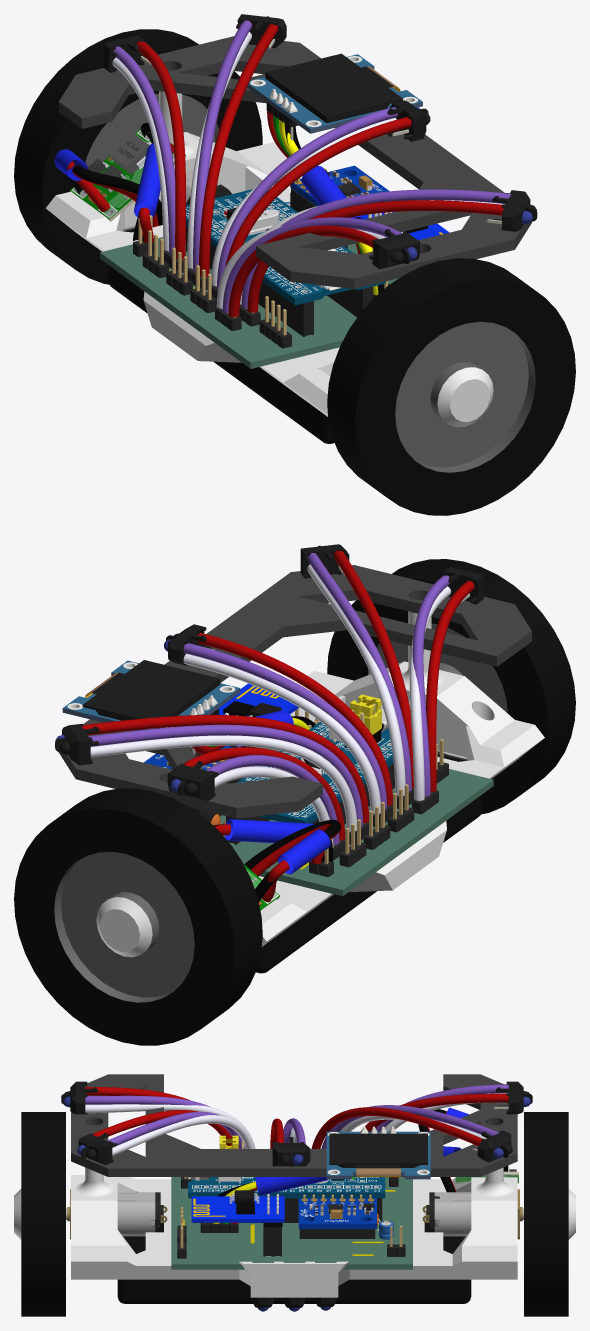
The model's file is AutoMicroSimplify.glb.
The picture shows the model from 3 angles, top to bottom: view 1: azimuth 30°, elevation 25°; view 2: azimuth 150°, elevation 25°; view 3: azimuth 270°, elevation 25°; orthographic projection. The views are drawn at different scales.
Parts seen in each view (by area): view 1: Solid1, Srf12, Srf9, Srf13, Srf14, Srf8, Srf10, Srf3, Srf2, Srf11, Srf15, Srf1 (+6 smaller); view 2: Solid1, Srf4, Srf8, Srf12, Srf5, Srf13, Srf9, Srf14, Srf6, Srf10, Srf15, Srf11 (+8 smaller); view 3: Solid1, Srf12, Srf6, Srf8, Srf7, Srf3, Srf10, Srf11, Srf14, Srf26, Srf2, Srf15 (+2 smaller).
Boxes of the visible parts, x1,y1,x2,y2 form: Solid1: [14, 14, 575, 515]; Srf12: [199, 24, 278, 276]; Srf9: [217, 107, 397, 289]; Srf13: [225, 117, 411, 266]; Srf14: [247, 200, 503, 312]; Srf8: [193, 20, 251, 272]; Srf10: [241, 189, 511, 308]; Srf3: [136, 41, 185, 259]; Srf2: [113, 46, 175, 254]; Srf11: [222, 217, 402, 312]; Srf15: [228, 225, 377, 317]; Srf1: [112, 57, 168, 250]; Solid1: [14, 544, 575, 1045]; Srf4: [90, 735, 356, 831]; Srf8: [88, 724, 363, 826]; Srf12: [82, 715, 368, 823]; Srf5: [183, 653, 380, 814]; Srf13: [197, 633, 392, 805]; Srf9: [183, 643, 386, 809]; Srf14: [333, 550, 413, 787]; Srf6: [307, 564, 405, 795]; Srf10: [307, 553, 411, 791]; Srf15: [426, 580, 474, 792]; Srf11: [412, 575, 450, 796]; Solid1: [14, 1074, 575, 1316]; Srf12: [311, 1107, 482, 1148]; Srf6: [112, 1115, 254, 1155]; Srf8: [321, 1105, 499, 1148]; Srf7: [85, 1104, 255, 1148]; Srf3: [360, 1093, 508, 1131]; Srf10: [107, 1111, 245, 1148]; Srf11: [85, 1095, 245, 1148]; Srf14: [93, 1110, 232, 1145]; Srf26: [255, 1177, 327, 1195]; Srf2: [375, 1084, 508, 1131]; Srf15: [85, 1087, 232, 1137].
Size of the model in its own units: 0.0695 by 0.0613 by 0.151.
